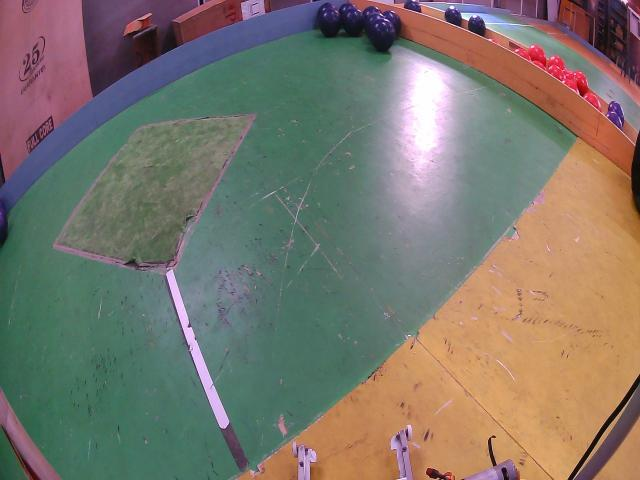jambhalya: (608, 100, 625, 128), (606, 110, 624, 130)
kaalyya: (369, 18, 396, 52), (342, 8, 365, 37), (319, 7, 341, 37), (364, 12, 383, 38), (382, 10, 401, 36), (445, 5, 462, 27), (469, 15, 486, 37), (316, 2, 338, 18), (339, 2, 356, 18), (364, 5, 381, 18), (404, 0, 421, 13)
